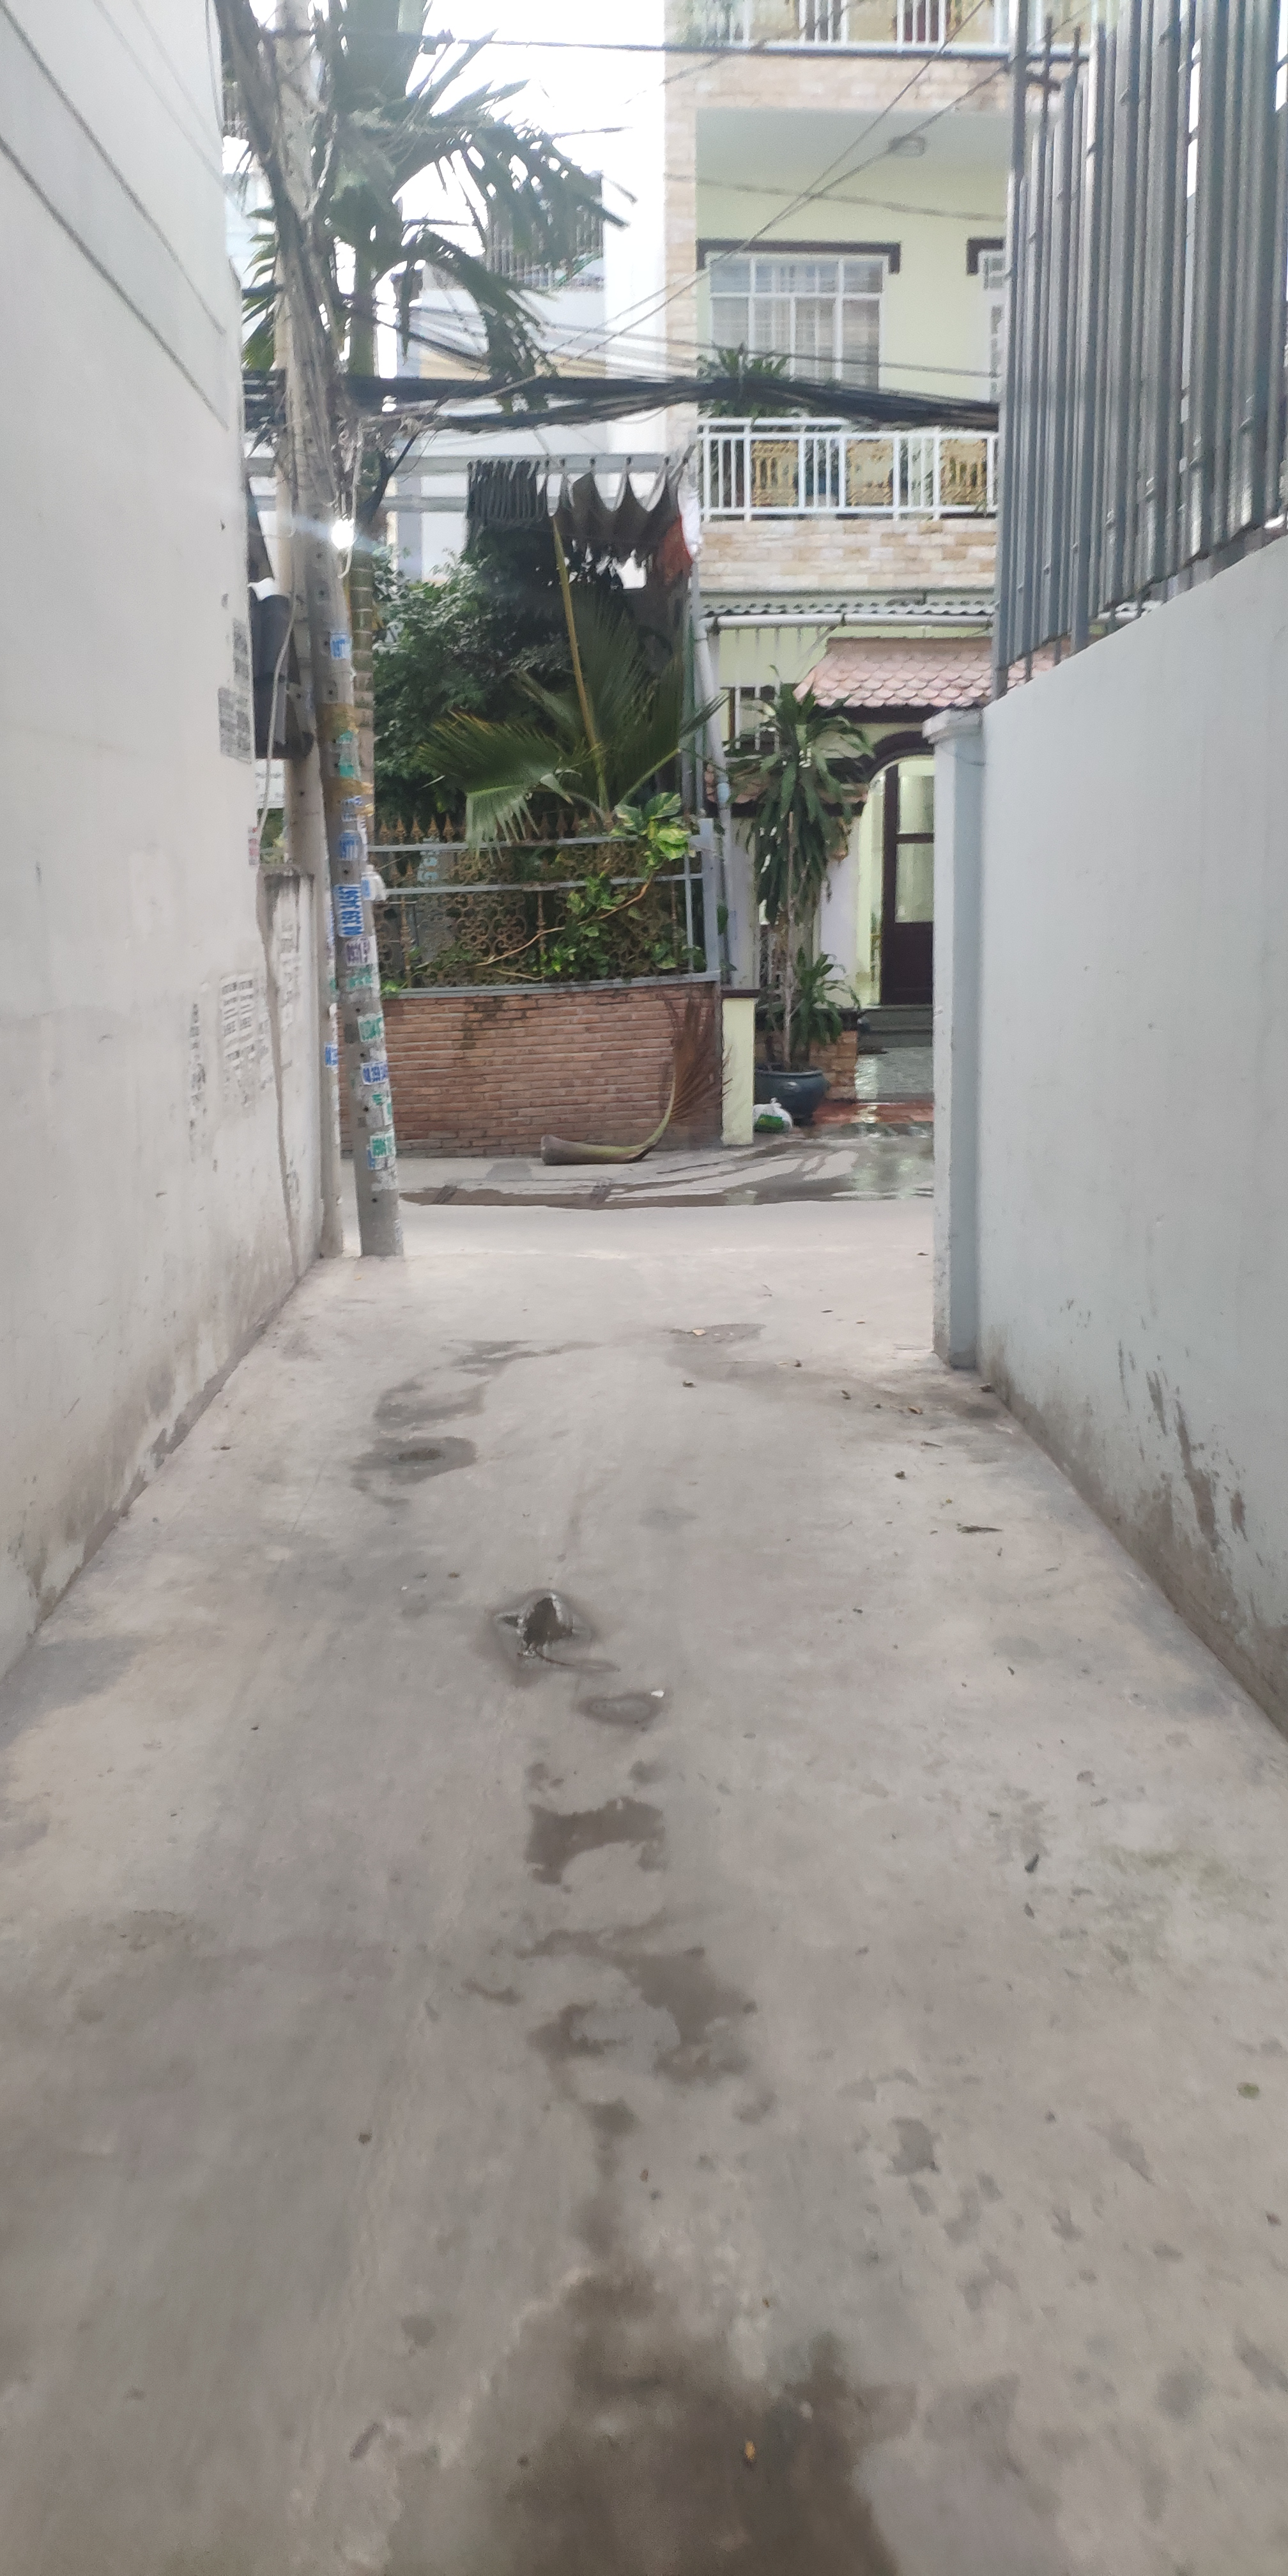hole: (490, 1582, 601, 1669), (379, 1429, 465, 1482)
